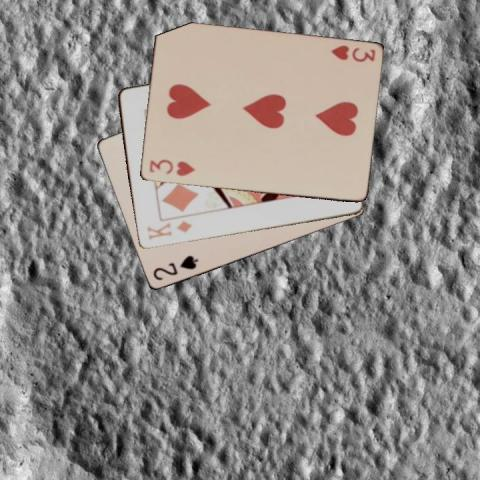2s: (149, 252, 200, 282)
3h: (146, 156, 196, 178), (327, 42, 376, 64)
Kd: (144, 218, 193, 241)
